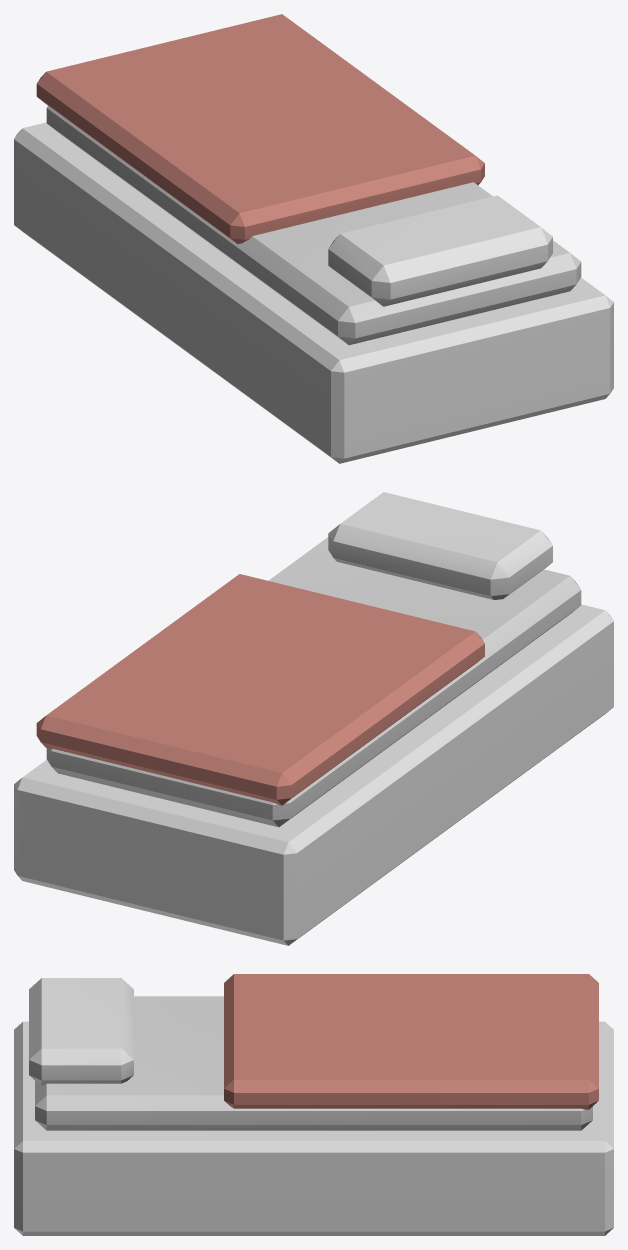
The model's file is bed_0.glb.
3 views of the same model, one above another, from view 1: azimuth 30°, elevation 25°; view 2: azimuth 150°, elevation 25°; view 3: azimuth 270°, elevation 25° (orthographic). The views are drawn at different scales.
Visible parts, largest first — view 1: bed_blanket; view 2: bed_blanket; view 3: bed_blanket.
Part boxes in pixels (bbox=[...]): bed_blanket: bbox=[14, 14, 613, 463]; bed_blanket: bbox=[14, 492, 613, 945]; bed_blanket: bbox=[14, 974, 613, 1235].
Bounding box in the file's own units: 1 × 0.6 × 2.
